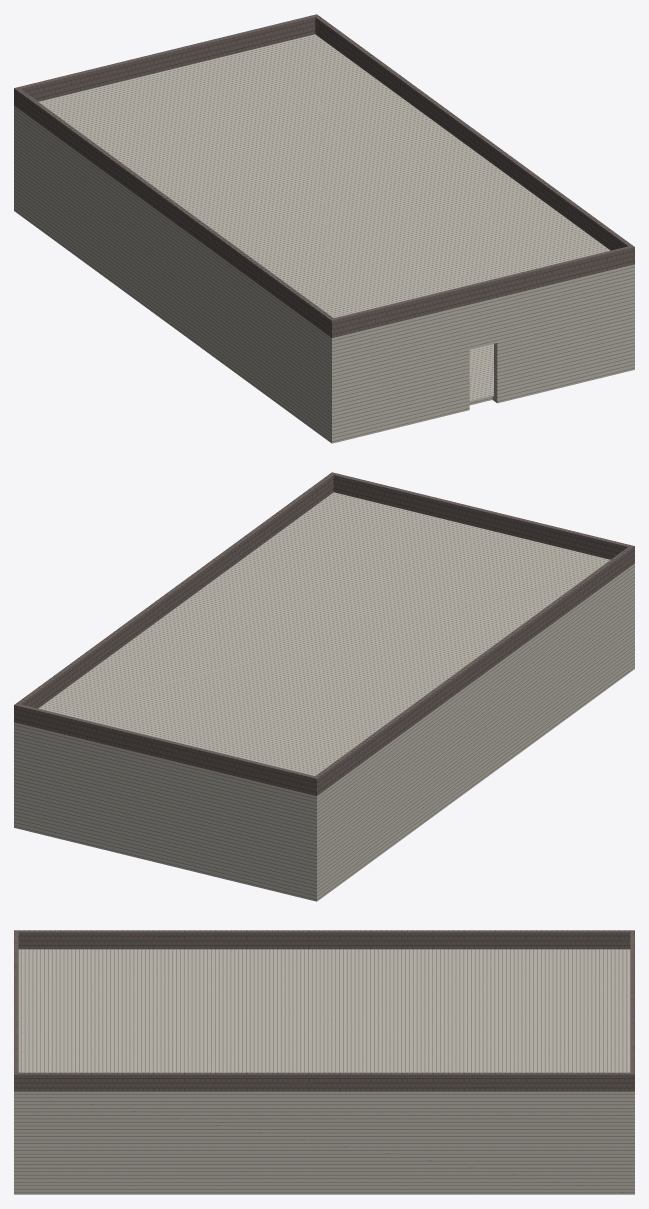
File: restaurant.glb
3 renders of one model, top to bottom at view 1: azimuth 30°, elevation 25°; view 2: azimuth 150°, elevation 25°; view 3: azimuth 270°, elevation 25°, orthographic. The views are drawn at different scales.
Visible parts, largest first — view 1: restaurant-col; view 2: restaurant-col; view 3: restaurant-col.
Part boxes in pixels (box(x1,y1,x2,y2)): restaurant-col: box(14, 14, 634, 443); restaurant-col: box(14, 472, 634, 901); restaurant-col: box(14, 930, 634, 1194).
Bounding box in the file's own units: 11 × 4.26 × 20.
2 materials, 2 textured.
